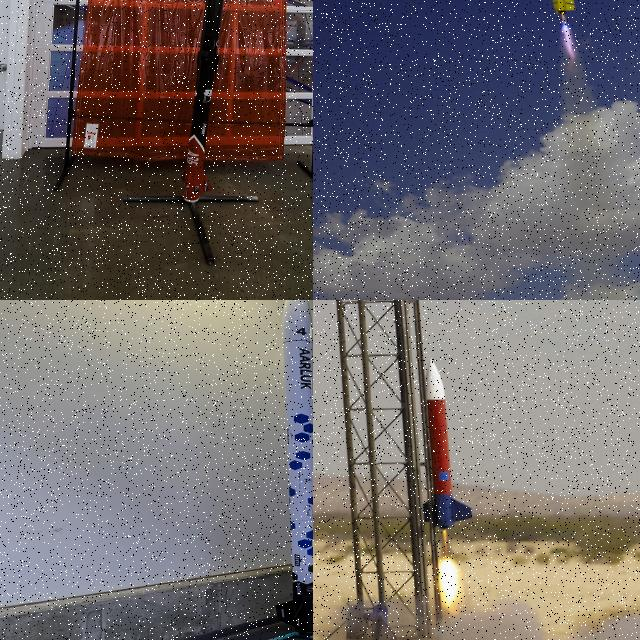Rocket: (275, 300, 313, 636), (422, 357, 474, 530), (181, 0, 224, 200), (552, 0, 575, 15)
